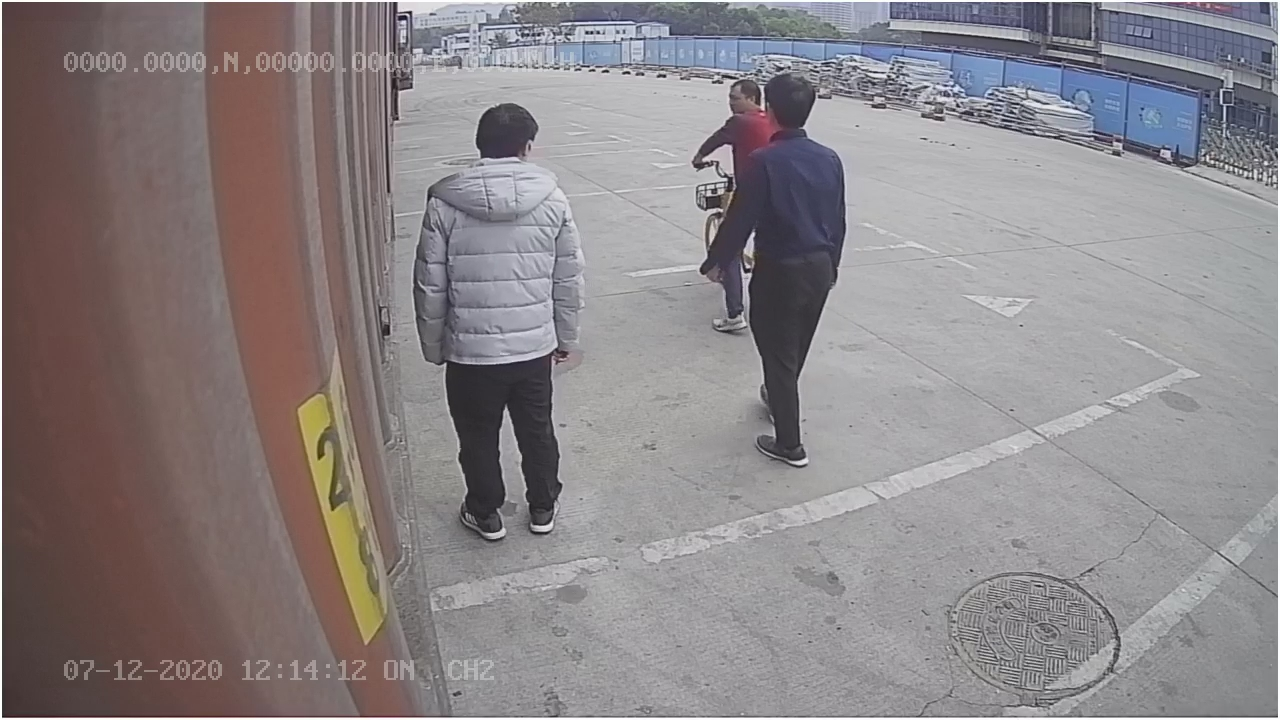person: (415, 104, 589, 542)
